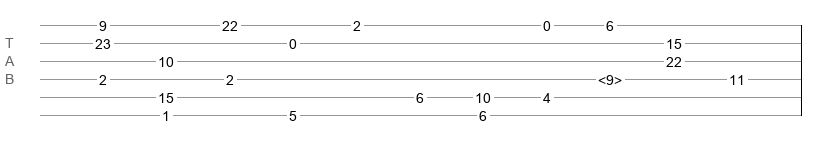0: (289, 36, 297, 46), (543, 18, 551, 28)
1: (162, 108, 170, 118)
10: (158, 54, 174, 64), (475, 90, 491, 100)
11: (729, 72, 745, 82)
15: (158, 90, 174, 100), (666, 36, 682, 46)
2: (99, 72, 107, 82), (226, 72, 234, 82), (353, 18, 361, 28)
22: (222, 18, 238, 28), (666, 54, 682, 64)
23: (95, 36, 111, 46)
4: (543, 90, 551, 100)
5: (289, 108, 297, 118)
6: (416, 90, 424, 100), (479, 108, 487, 118), (606, 18, 614, 28)
9: (99, 18, 107, 28)
harmonic: (598, 72, 622, 82)
